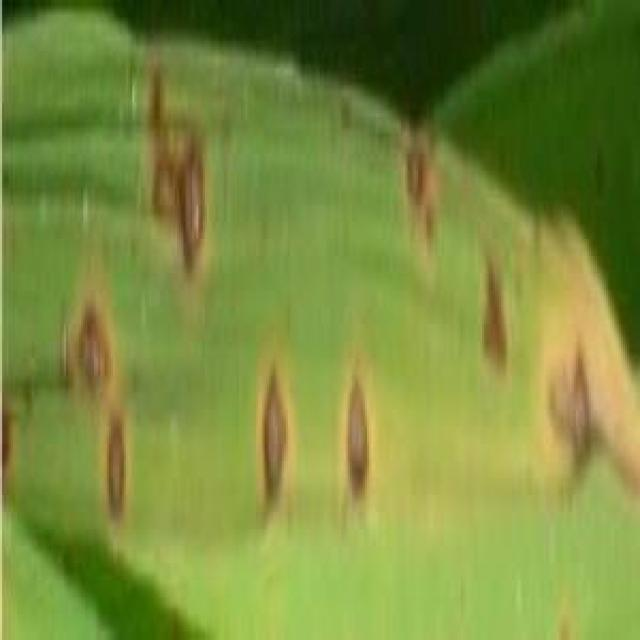brownspots: (237, 360, 306, 510), (53, 296, 139, 394), (88, 404, 150, 518), (331, 380, 386, 500), (552, 344, 606, 456), (467, 266, 521, 372), (394, 147, 454, 239), (137, 76, 177, 212), (179, 154, 209, 276), (2, 409, 13, 472)
